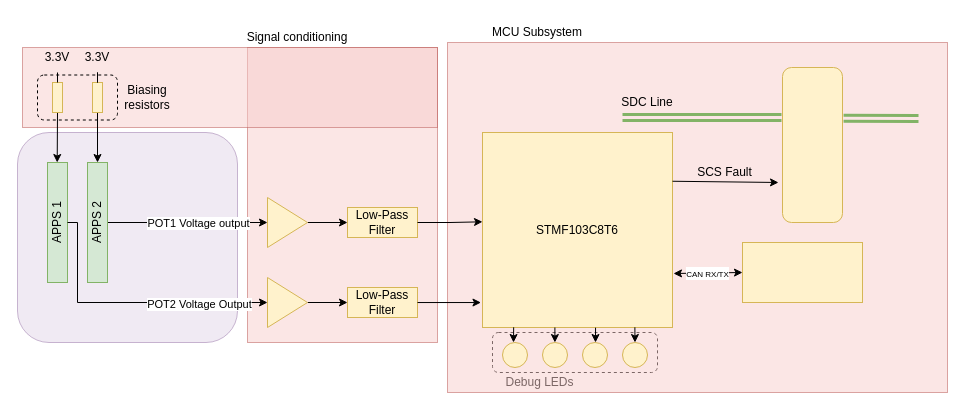
Some shapes in this 965 by 414 pixel diagram are drawn without their labels. The box of each missing label's shape, as (x1, y1, x2, y2) in pixels:
APPS Power Stage: (782, 66, 842, 222)
CAN Transceiver: (742, 242, 862, 302)
